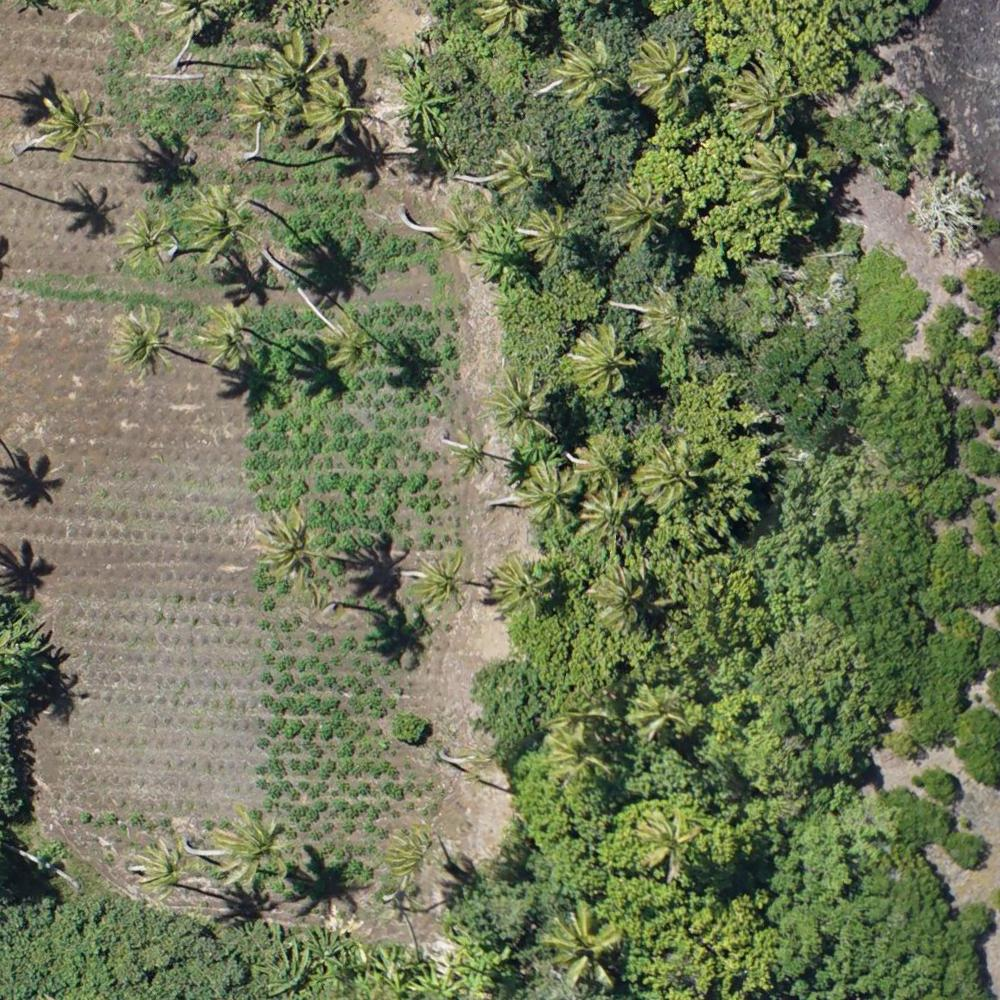Palm: (547, 901, 619, 993), (251, 505, 322, 586), (38, 88, 107, 163), (567, 324, 637, 395), (182, 189, 252, 258), (306, 71, 373, 140), (222, 817, 286, 889), (741, 142, 814, 204), (107, 304, 167, 378), (737, 63, 798, 134), (199, 300, 258, 372), (589, 573, 661, 630), (637, 812, 700, 877), (579, 485, 645, 547), (634, 38, 698, 101), (519, 207, 582, 269), (521, 464, 584, 525), (637, 443, 702, 502), (547, 719, 609, 780), (495, 366, 551, 432), (490, 556, 556, 612), (498, 135, 557, 196), (608, 188, 668, 247), (118, 209, 174, 272), (562, 35, 617, 99), (238, 71, 292, 134), (412, 555, 473, 609), (635, 679, 688, 736), (139, 840, 189, 899), (439, 197, 489, 254), (328, 317, 375, 373), (451, 432, 492, 484)
